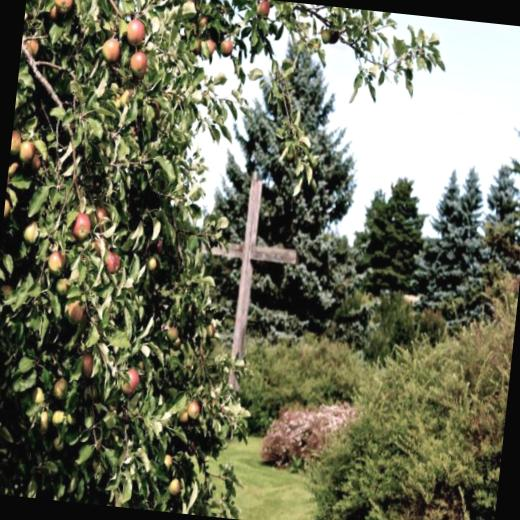Apple: (0, 126, 136, 458), (90, 15, 172, 140), (156, 0, 239, 60), (119, 367, 140, 394), (23, 34, 42, 56), (163, 321, 181, 344), (166, 475, 184, 495), (254, 0, 270, 19), (186, 400, 200, 418), (162, 454, 175, 472), (176, 404, 188, 423), (53, 0, 74, 10), (186, 441, 198, 456), (329, 30, 340, 44), (320, 27, 330, 42), (206, 322, 217, 335), (147, 256, 156, 271), (50, 6, 58, 20), (310, 39, 320, 50), (155, 242, 162, 255)
